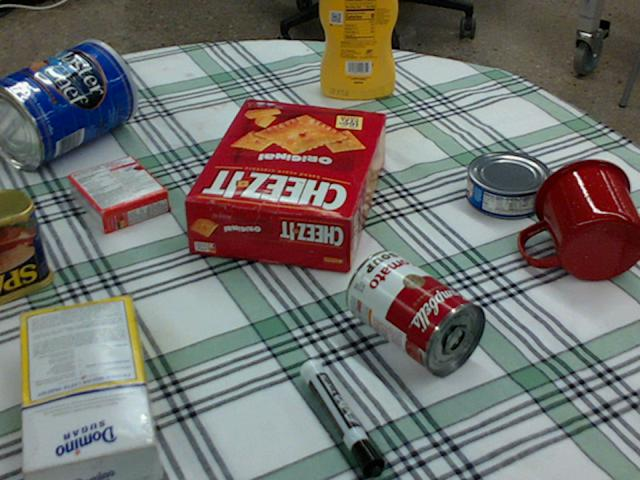cracker_box: (181, 98, 387, 272)
gelatin_box: (68, 154, 170, 234)
large_marker: (301, 359, 383, 479)
master_chef_can: (0, 39, 137, 172)
mug: (520, 158, 639, 280)
mustard_bottle: (319, 0, 397, 99)
potted_meat_can: (0, 187, 54, 303)
sugar_box: (16, 296, 159, 479)
tomato_soup_can: (345, 248, 485, 375)
tuna_fish_can: (467, 151, 550, 218)
